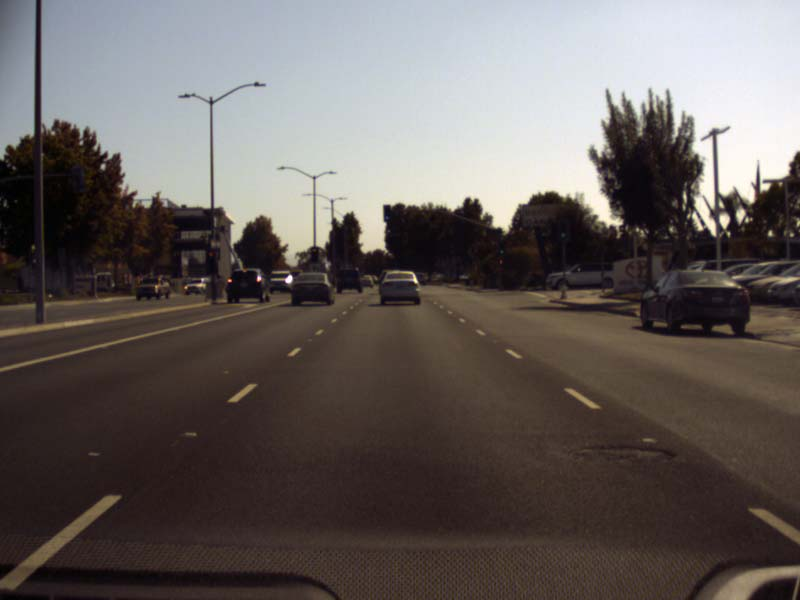Green: (383, 204, 391, 221), (499, 243, 504, 255), (560, 231, 566, 238)
Red: (310, 247, 317, 263), (207, 249, 214, 263)
